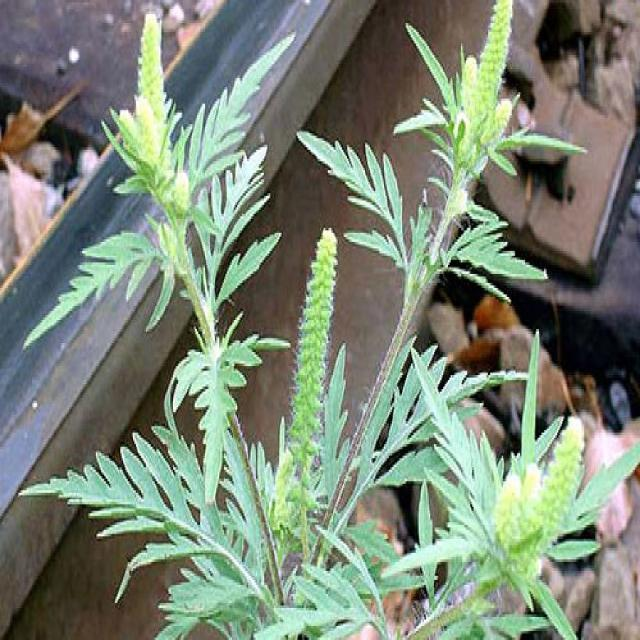ambrosia: (242, 206, 389, 607), (421, 17, 527, 262), (469, 412, 581, 640), (118, 20, 199, 228)
